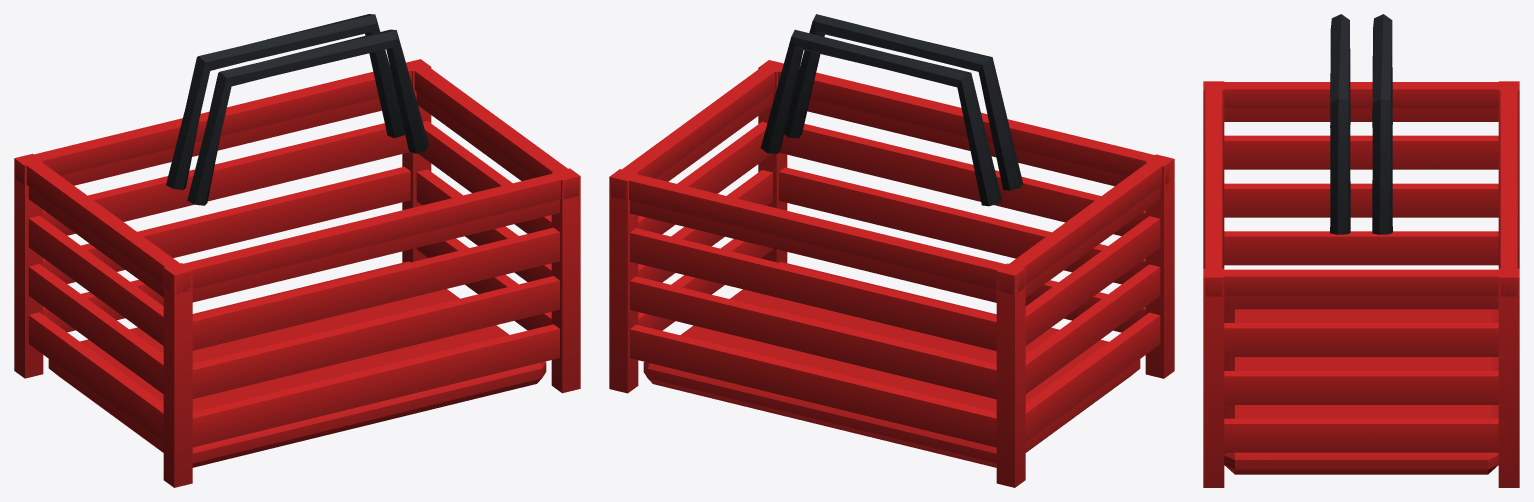
The model's file is shopping_basket_01.fbx.
3 views of the same model, side by side, from view 1: azimuth 30°, elevation 25°; view 2: azimuth 150°, elevation 25°; view 3: azimuth 270°, elevation 25° (orthographic).
Visible parts, largest first — view 1: shopping_basket_01_LOD0; view 2: shopping_basket_01_LOD0; view 3: shopping_basket_01_LOD0.
Part boxes in pixels (box(x1,y1,x2,y2)): shopping_basket_01_LOD0: box(14, 14, 580, 487); shopping_basket_01_LOD0: box(609, 14, 1174, 487); shopping_basket_01_LOD0: box(1203, 14, 1519, 487).
Size of what is drawn, in the model's own units: 0.44 by 0.3486 by 0.3.
Materials: 1 (1 with a texture image).
